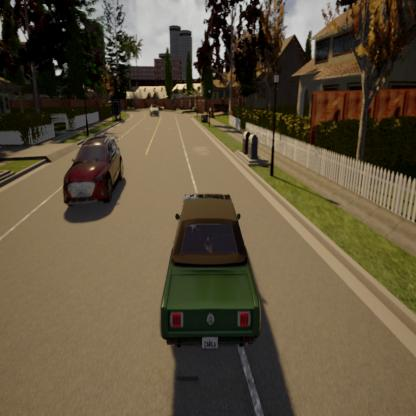Cars: (151, 176, 269, 363), (60, 131, 128, 217), (148, 99, 161, 120)
